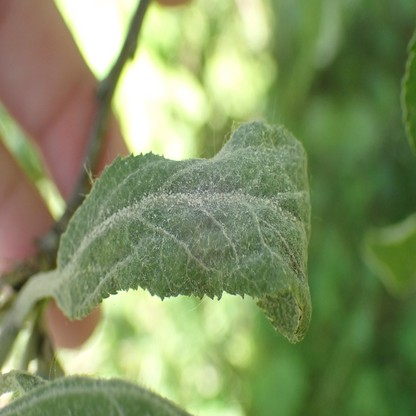powdery_mildew: (57, 117, 311, 343), (0, 374, 196, 416)
